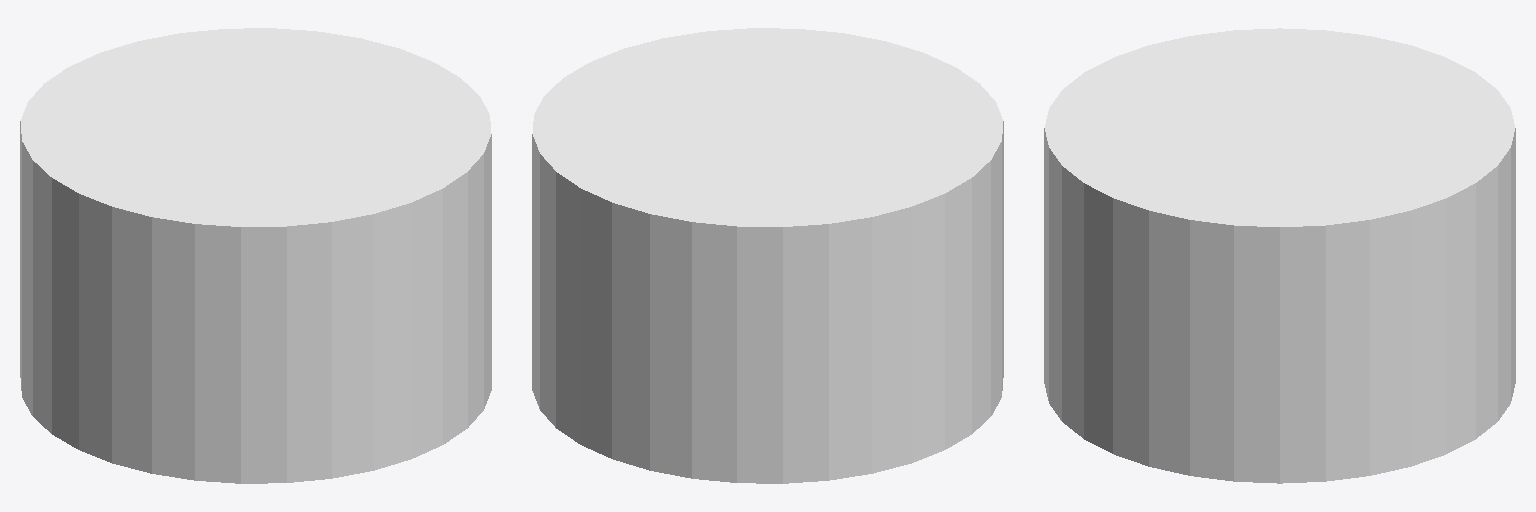
URDF robot description (robot):
<?xml version="1.0"?>
<robot name="robot">
    <!-- 机器人模型 -->
    <link name="base_link">
        <visual>
            <origin xyz="0.0 0.0 0.0" rpy="0.0 0.0 0.0"/>
            <geometry>
                <cylinder radius="0.10" length="0.12"/>
            </geometry>
            <material name="white">
                <color rgba="1.0 1.0 1.0 0.5"/>
            </material>
        </visual>
    </link>
    <link name="imu_link">
        <visual>
            <origin xyz="0.0 0.0 0.0" rpy="0.0 0.0 0.0"/>
            <geometry>
                <box size="0.02 0.02 0.02"/>
            </geometry>
            <material name="black">
                <color rgba="0.0 0.0 0.0 1.0"/>
            </material>
        </visual>
    </link>
    <joint name="base_link_to_imu" type="fixed">
        <parent link="base_link"/>
        <child link="imu_link"/>
        <origin xyz="0.0 0.0 0.03" rpy="0.0 0.0 0.0"/>
    </joint>
</robot>

--- What the picture shows (computed from the rendered views, not written in the file) ---
3 views of the same robot in one strip: view 1: azimuth 30°, elevation 25°; view 2: azimuth 150°, elevation 25°; view 3: azimuth 270°, elevation 25° (orthographic).
Robot: robot — 2 links, 1 joints (1 fixed); root link base_link; default pose: all joints at 0.
Links seen in each view (by area): view 1: base_link; view 2: base_link; view 3: base_link.
Link boxes in pixels (x1,y1,x2,y2): base_link: (20, 28, 491, 483); base_link: (532, 28, 1003, 483); base_link: (1044, 28, 1515, 483).
Size in the robot's own frame: 0.2 by 0.2 by 0.12 metres.
Geometry: primitives only (box / cylinder / sphere), no mesh files.